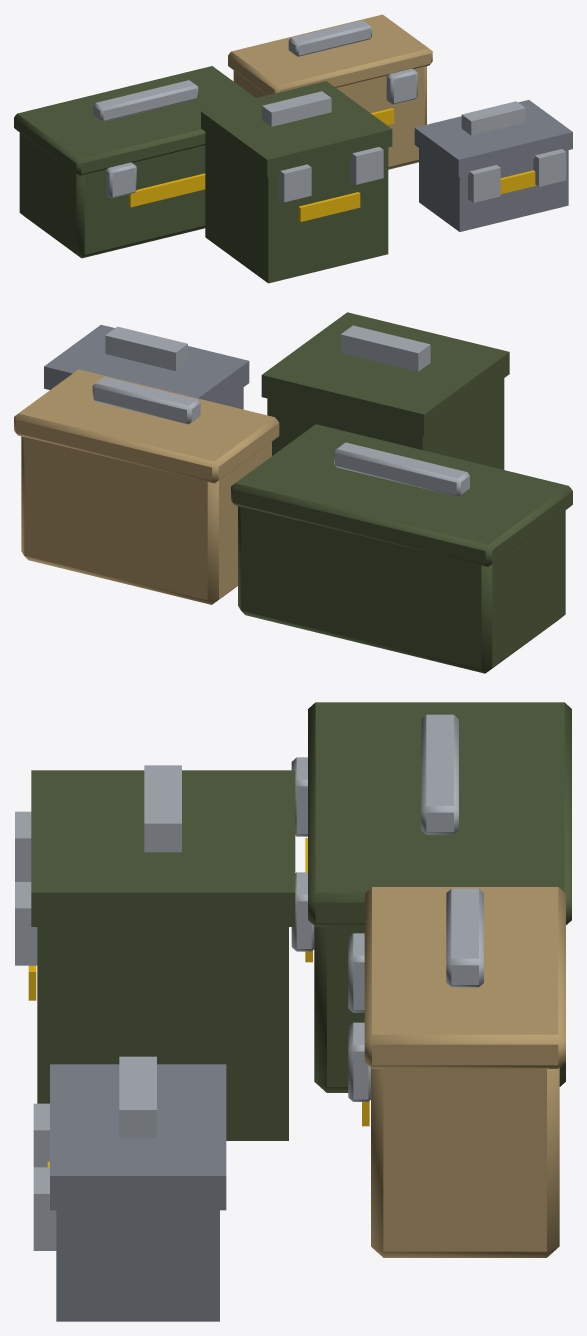
Rendered from storagebin_ammo_cans.glb.
3 views of the same model, one above another, from view 1: azimuth 30°, elevation 25°; view 2: azimuth 150°, elevation 25°; view 3: azimuth 270°, elevation 25° (orthographic). The views are drawn at different scales.
Visible parts, largest first — view 1: storagebin_ammo_cans; view 2: storagebin_ammo_cans; view 3: storagebin_ammo_cans.
Boxes of the visible parts, box(x1,y1,x2,y2) form: storagebin_ammo_cans: box(14, 14, 572, 283); storagebin_ammo_cans: box(14, 312, 572, 673); storagebin_ammo_cans: box(15, 702, 571, 1321).
Bounding box in the file's own units: 0.79 × 0.2525 × 0.443.
